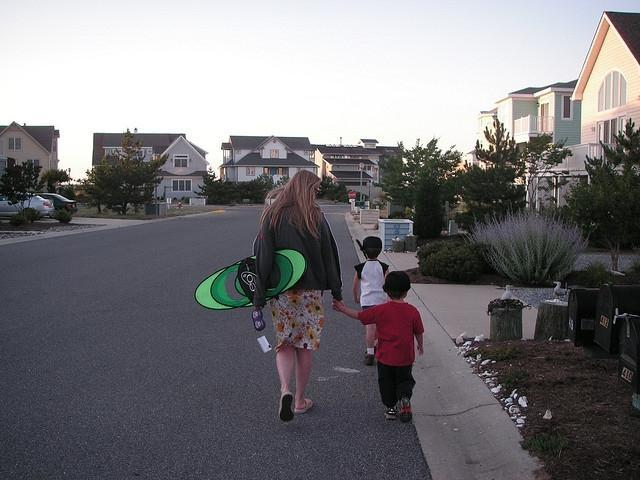car: (2, 195, 52, 222), (35, 194, 78, 212)
